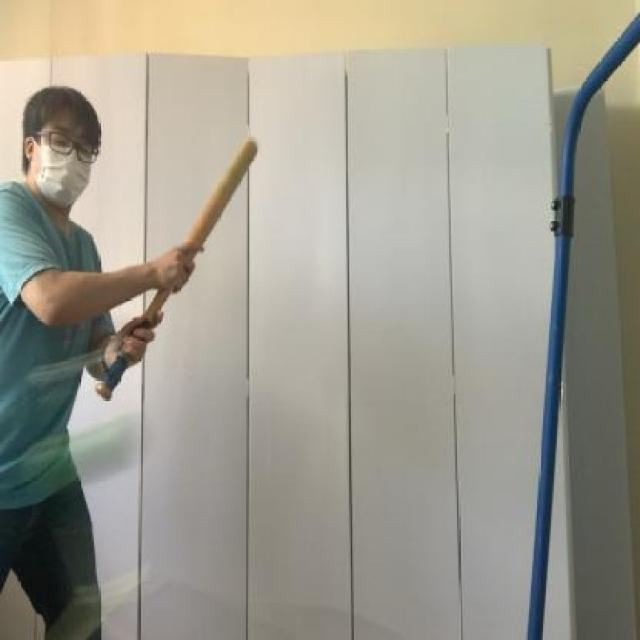baseball: (7, 408, 161, 510)
